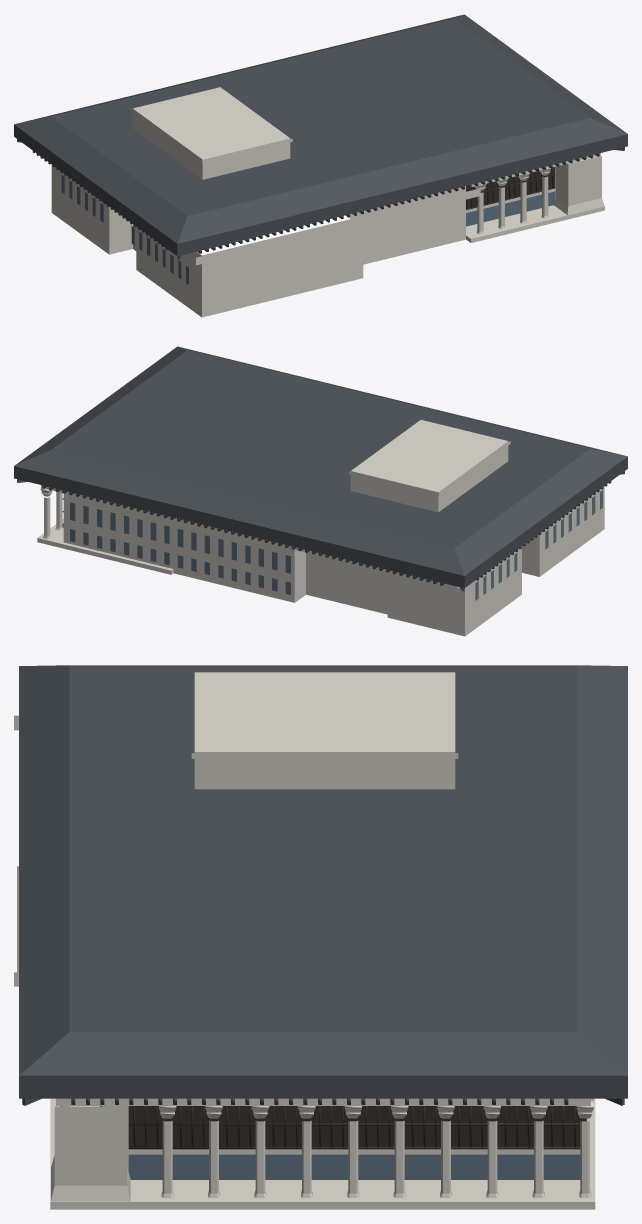
Rendered from seoul-sejong-center.glb.
3 views of the same model, one above another, from view 1: azimuth 30°, elevation 25°; view 2: azimuth 150°, elevation 25°; view 3: azimuth 270°, elevation 25° (orthographic). The views are drawn at different scales.
Visible parts, largest first — view 1: Sejong Center for the Performing Arts; view 2: Sejong Center for the Performing Arts; view 3: Sejong Center for the Performing Arts.
Boxes of the visible parts, <box> form: Sejong Center for the Performing Arts: <box>14,14,627,317</box>; Sejong Center for the Performing Arts: <box>14,346,627,636</box>; Sejong Center for the Performing Arts: <box>14,665,627,1209</box>.
Bounding box in the file's own units: 134 × 31.5 × 84.7.
